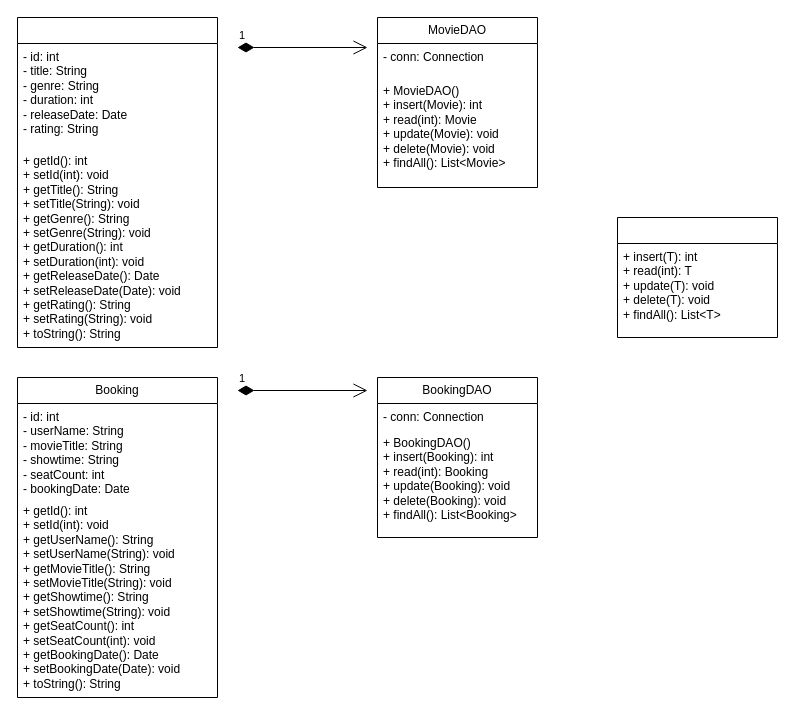
Image size: 795x718. Some labels were removed from this diagram. The shapes that lost their labels are listed below. From the top down, each one's box as (x1, y1, x2, y2) in pixels, then its label:
(16, 16, 218, 348): Movie
(616, 216, 778, 338): DAOInterface<T>
